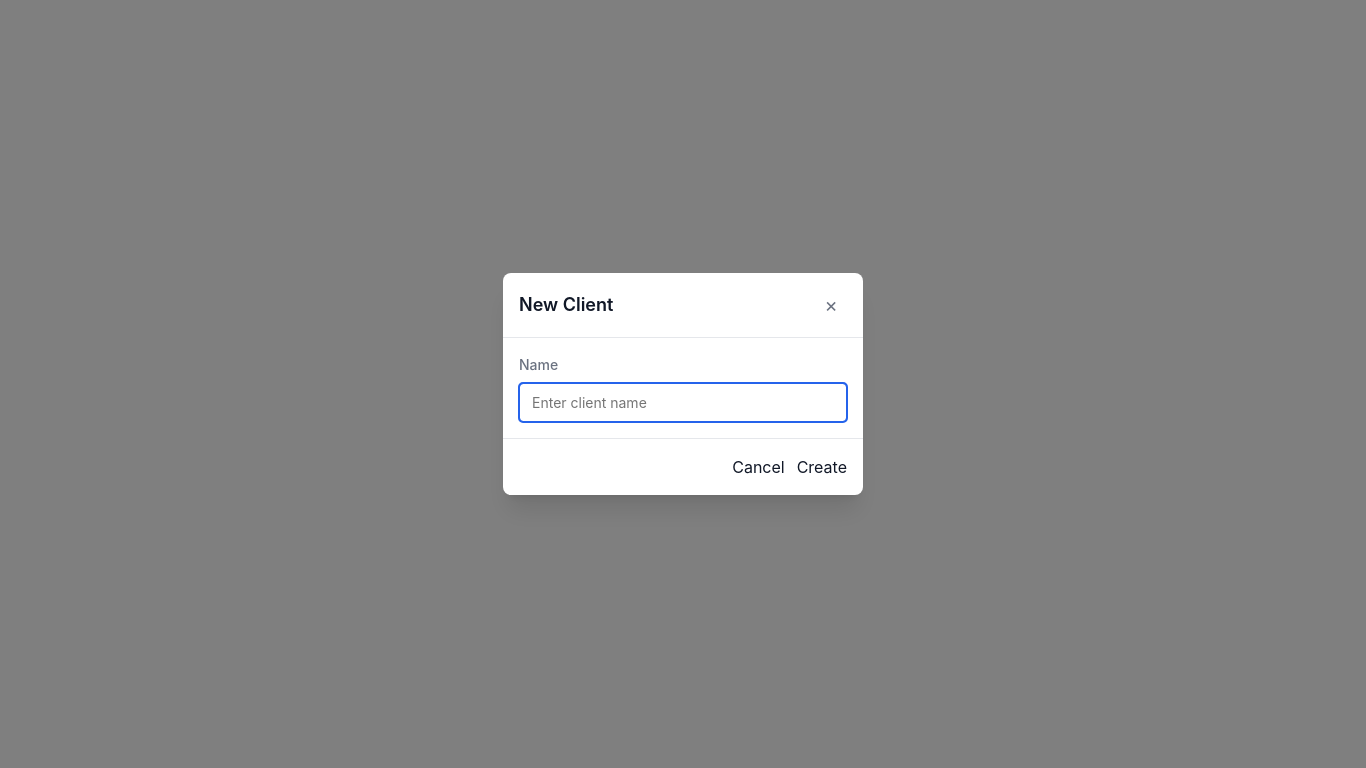
Test: CreateClientModal › displays a generic error message for non-Error throws
This screenshot has width=1366, height=768.
Step 1. Type "Acme Corp" into the field with test id "create-client-name-input" → (683, 402), box [519,383,847,422]
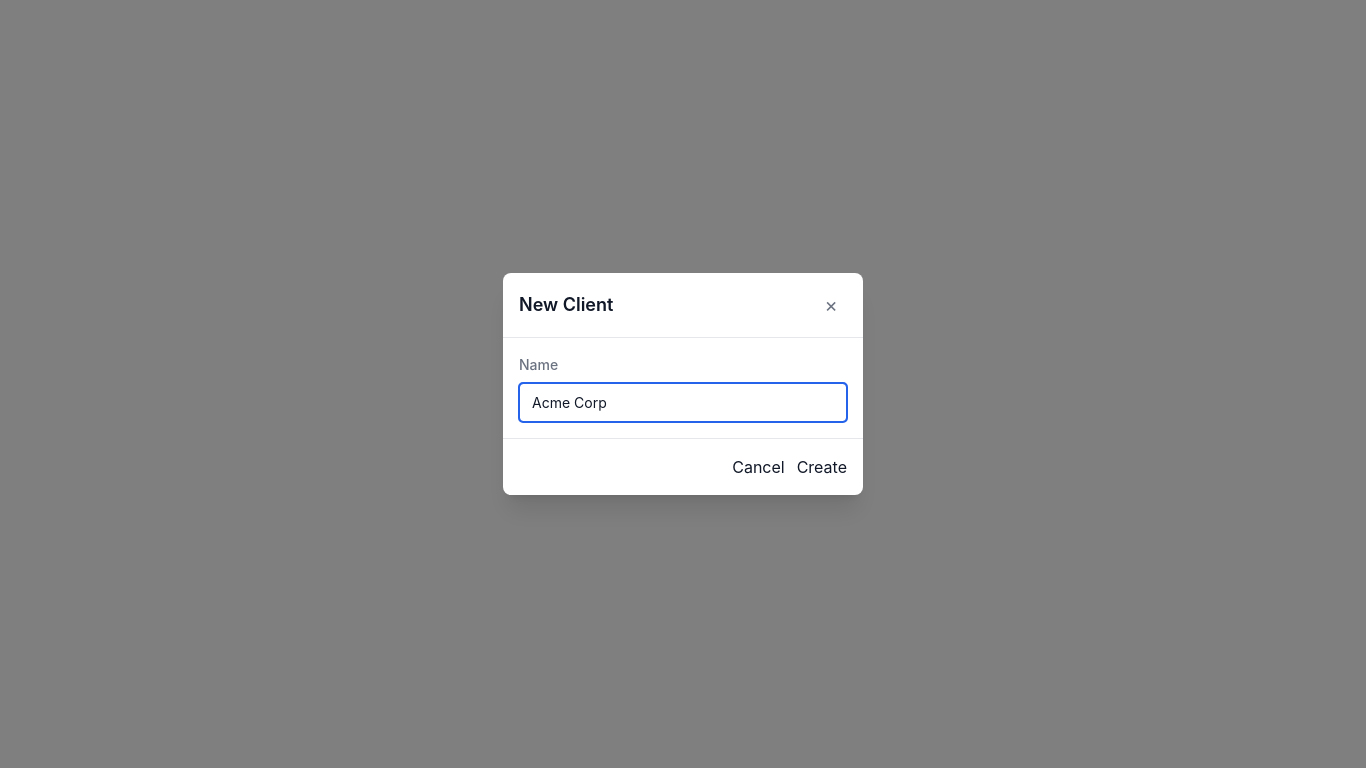
Step 2. Submit the form with test id "create-client-form", box [519,354,847,422]
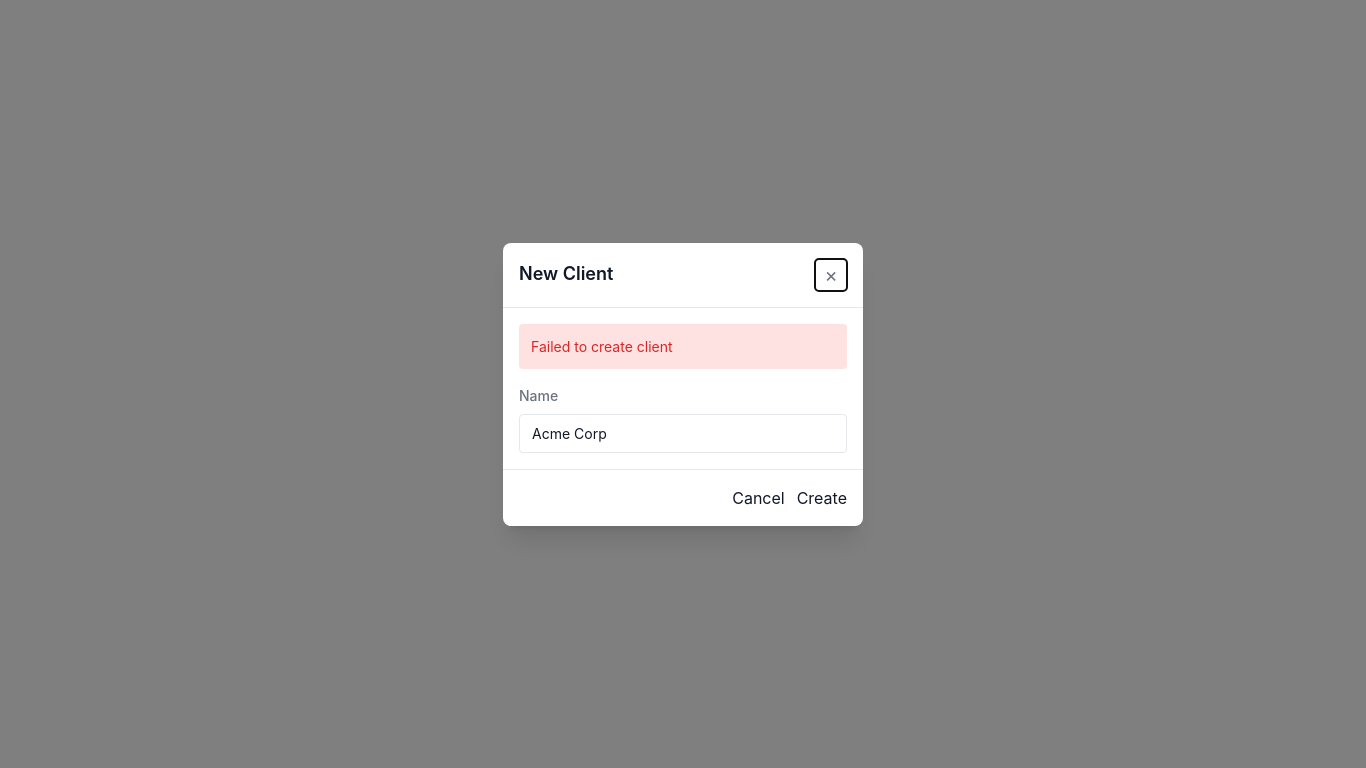
Expected: the text with test id "create-client-error" reads "Failed to create client", [531,338,672,354]
